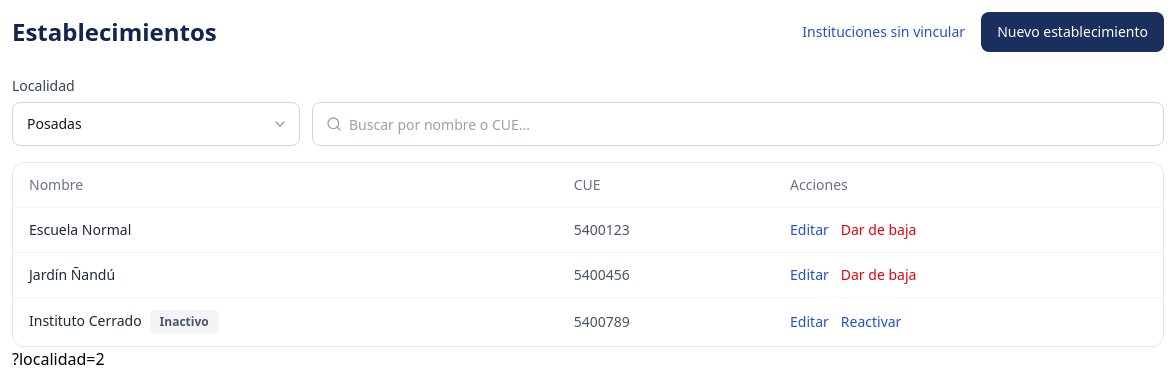
Test: EstablecimientosPage: lista (criterio 7) › busca por CUE
This screenshot has width=1176, height=382.
Type "5400789" into the field labelled "Buscar por nombre o CUE". click: (738, 124)
box: [312, 102, 1164, 146]
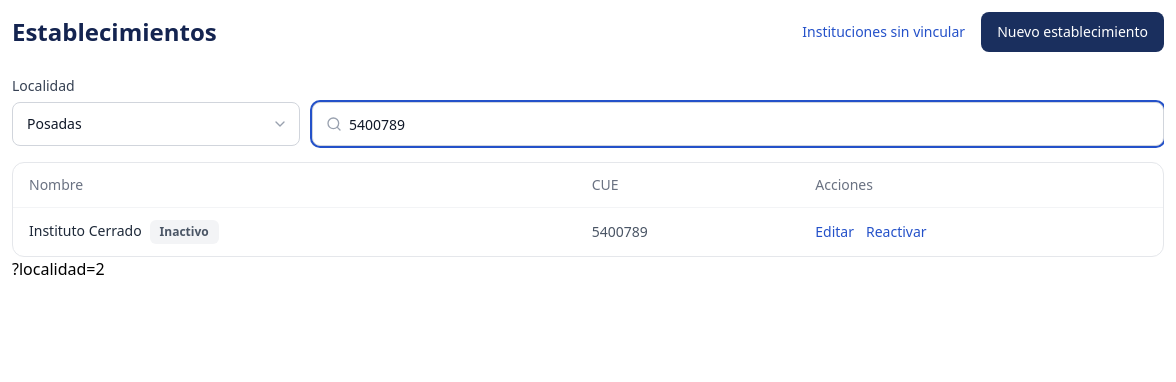
Expected: the row "Instituto Cerrado Inactivo 5400789 Editar Reactivar" is shown, [13, 208, 1163, 256]
Result: the cell "Escuela Normal" is gone
